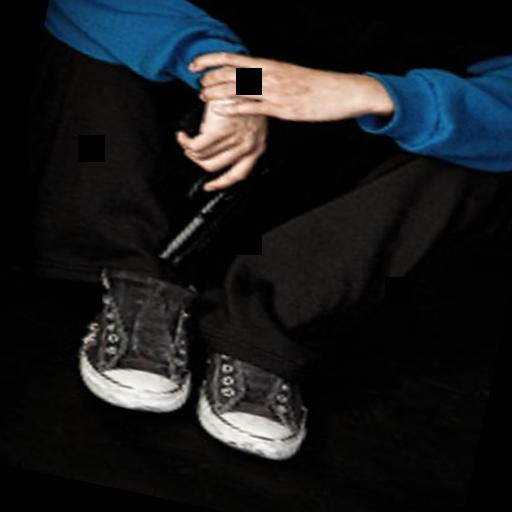Handgun: (137, 91, 275, 279)
